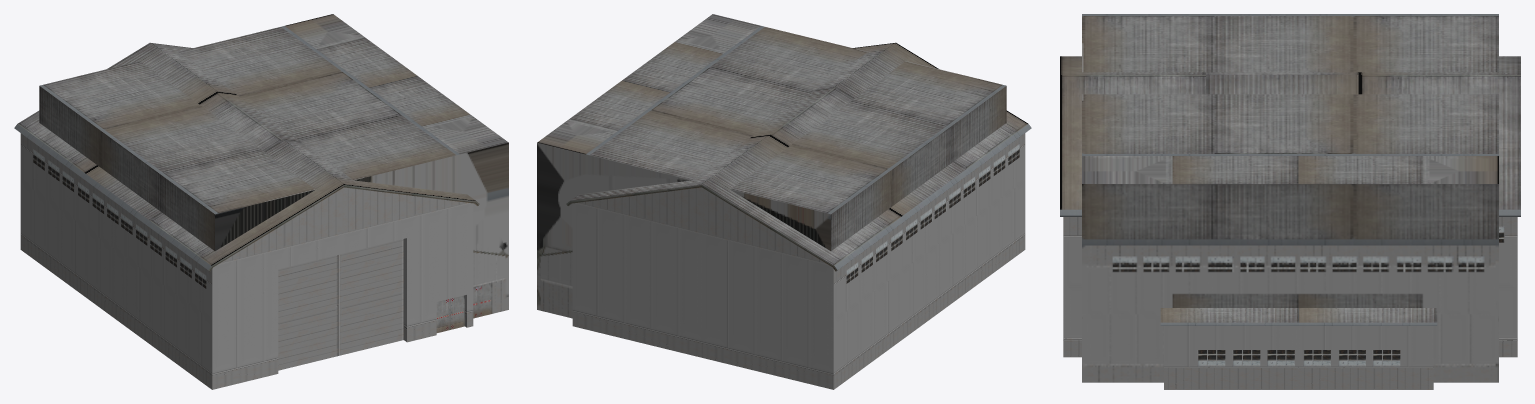
The model's file is dz_industrial_30.fbx.
The picture shows the model from 3 angles, left to right: view 1: azimuth 30°, elevation 25°; view 2: azimuth 150°, elevation 25°; view 3: azimuth 270°, elevation 25°; orthographic projection. The views are drawn at different scales.
Parts seen in each view (by area): view 1: dz_industrial_30_LOD0; view 2: dz_industrial_30_LOD0; view 3: dz_industrial_30_LOD0.
Boxes of the visible parts, x1,y1,x2,y2 form: dz_industrial_30_LOD0: (14,14,508,389); dz_industrial_30_LOD0: (537,14,1031,389); dz_industrial_30_LOD0: (1060,14,1520,389).
Size of what is drawn, in the model's own units: 24.44 by 12.49 by 25.22.
Materials: 2 (2 with a texture image).
